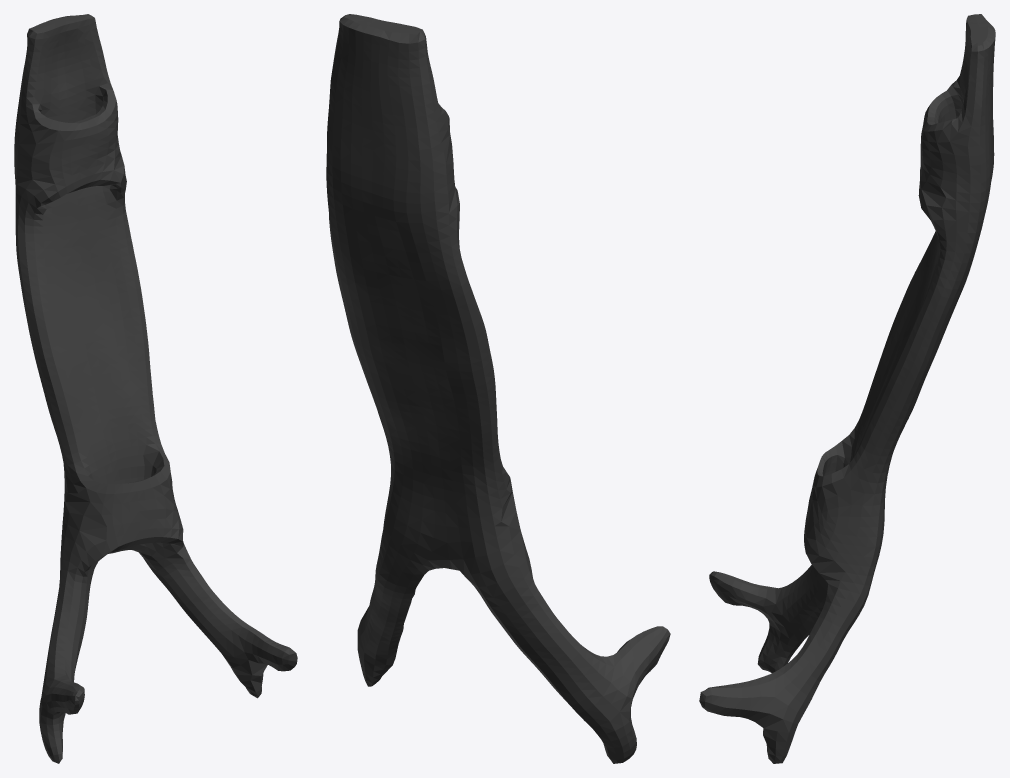
File: SDF.glb
3 views of the same model, side by side, from view 1: azimuth 30°, elevation 25°; view 2: azimuth 150°, elevation 25°; view 3: azimuth 270°, elevation 25° (orthographic). The views are drawn at different scales.
Parts seen in each view (by area): view 1: SDF; view 2: SDF; view 3: SDF.
Part boxes in pixels (left/top/right/bottom): SDF: left=14, top=14, right=297, bottom=763; SDF: left=326, top=14, right=670, bottom=763; SDF: left=699, top=14, right=995, bottom=763.
Size of the model in its own units: 1.75 by 4.87 by 1.88.
1 material, 1 textured.
